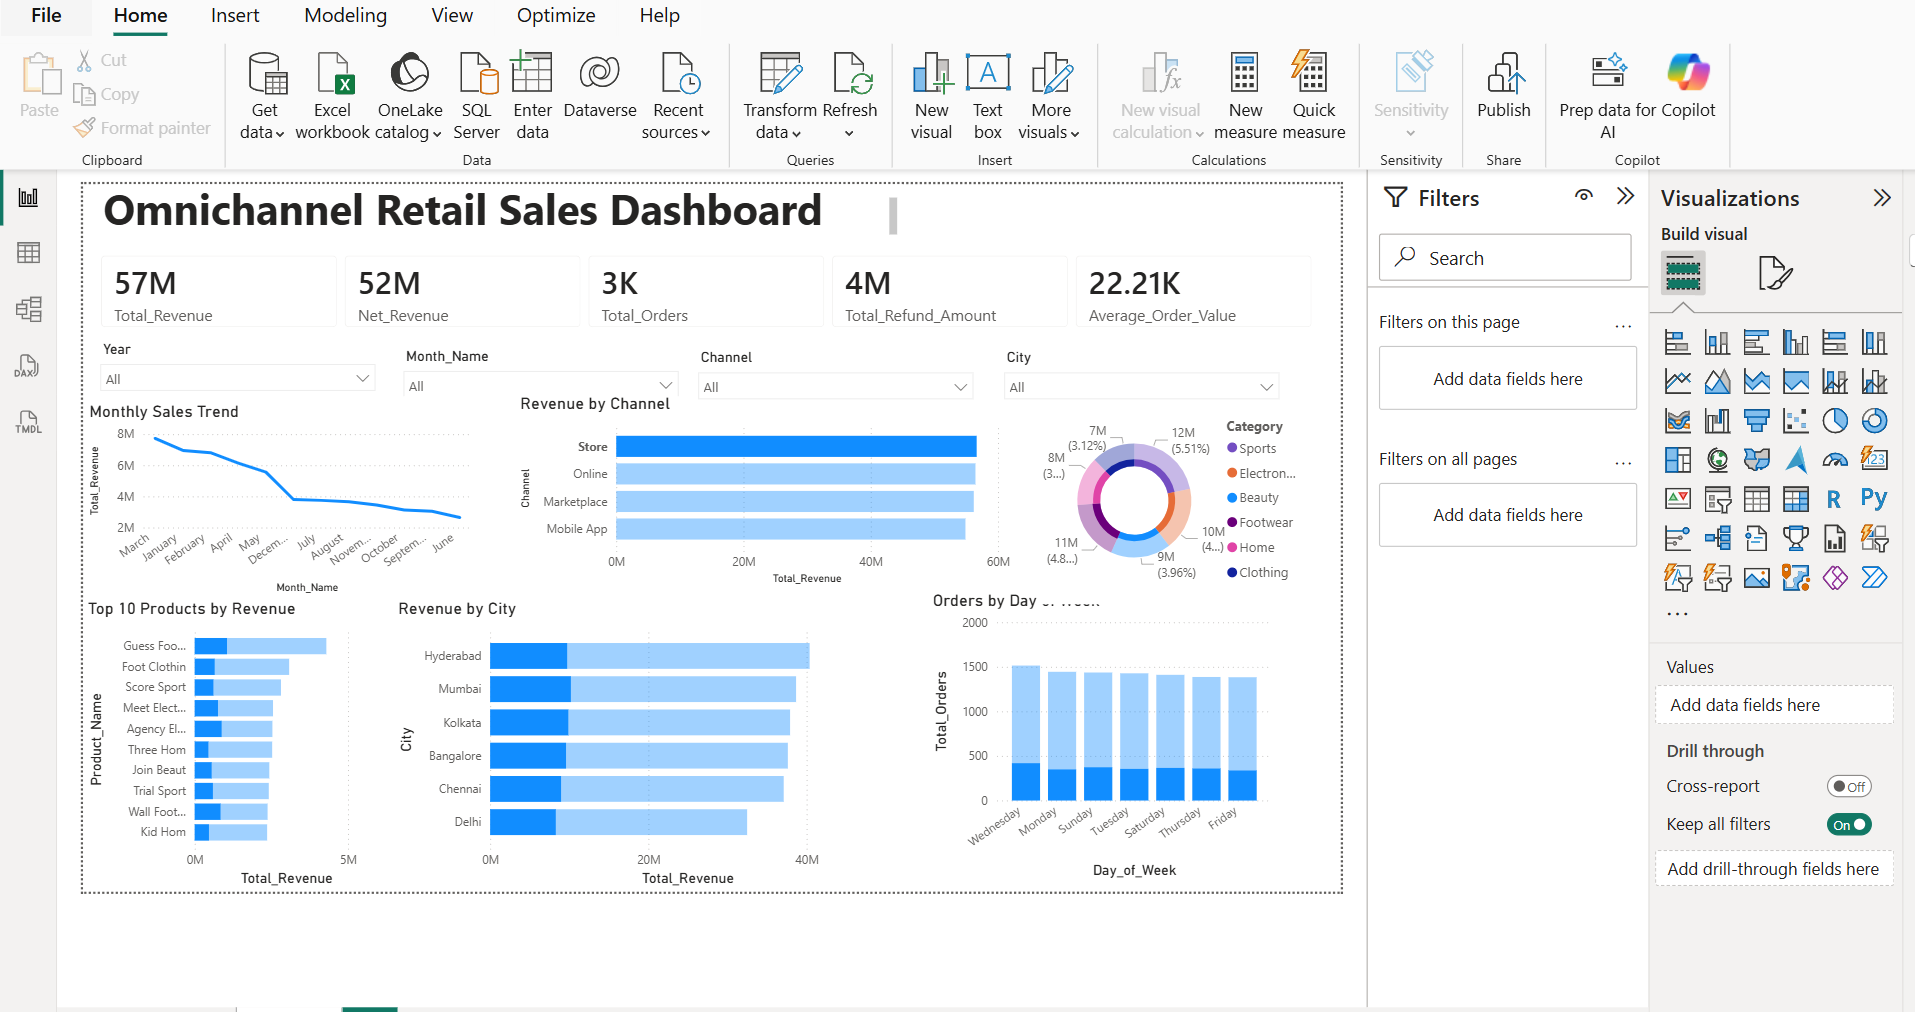

What the dashboard file says about the page in this screenshot:
{"tool":"powerbi","page":{"name":"Page 1","canvas":[1280,720],"ordinal":0},"visuals":[{"type":"cardVisual","fields":{"Data":["week3_dashboard_sales_model.Total_Revenue","week3_dashboard_sales_model.Net_Revenue","week3_dashboard_sales_model.Total_Orders","week3_dashboard_sales_model.Total_Refund_Amount","week3_dashboard_sales_model.Average_Order_Value"]},"box":[0,56,1270,94],"z":0},{"type":"lineChart","title":"Monthly Sales Trend","fields":{"Category":["week3_dashboard_sales_model.Month_Name"],"Y":["week3_dashboard_sales_model.Total_Revenue"]},"box":[1.7,221.7,398.3,200],"z":1000},{"type":"clusteredBarChart","title":"Revenue by Channel","fields":{"Category":["week3_dashboard_sales_model.Channel"],"Y":["week3_dashboard_sales_model.Total_Revenue"]},"box":[440,213.3,508.3,200],"z":2000},{"type":"clusteredBarChart","title":"Top 10 Products by Revenue","fields":{"Category":["week3_dashboard_sales_model.Product_Name"],"Y":["week3_dashboard_sales_model.Total_Revenue"]},"box":[0,421.7,315,298.3],"z":3000},{"type":"clusteredBarChart","title":"Revenue by City","fields":{"Category":["week3_dashboard_sales_model.City"],"Y":["week3_dashboard_sales_model.Total_Revenue"]},"box":[315,421.7,518.3,298.3],"z":4000},{"type":"clusteredColumnChart","title":"Orders by Day of Week","fields":{"Category":["week3_dashboard_sales_model.Day_of_Week"],"Y":["week3_dashboard_sales_model.Total_Orders"]},"box":[860,413.3,355,298.3],"z":5000},{"type":"donutChart","fields":{"Category":["week3_dashboard_sales_model.Category"],"Y":["week3_dashboard_sales_model.Total_Revenue"]},"box":[971.7,216.7,278.3,210],"z":6000},{"type":"slicer","fields":{"Values":["week3_dashboard_sales_model.Year"]},"box":[15,141.7,300,66.7],"z":6001},{"type":"slicer","fields":{"Values":["week3_dashboard_sales_model.Month_Name"]},"box":[315,145,300,55],"z":6002},{"type":"slicer","fields":{"Values":["week3_dashboard_sales_model.Channel"]},"box":[615,150,300,58.3],"z":6003},{"type":"slicer","fields":{"Values":["week3_dashboard_sales_model.City"]},"box":[926.7,146.7,300,66.7],"z":6004},{"type":"textbox","box":[16,0,818,56],"z":6005}]}

Visuals, with their boxes on the page's 1280x720 design canvas (x1, y1, x2, y2). These are canvas units, not pixel positions in the 1915x1012 screenshot, which may show the page scaled, cropped or inside an application window:
cardVisual - week3_dashboard_sales_model.Total_Revenue x week3_dashboard_sales_model.Net_Revenue: {"left": 0, "top": 56, "right": 1270, "bottom": 150}
"Monthly Sales Trend" lineChart: {"left": 2, "top": 222, "right": 400, "bottom": 422}
"Revenue by Channel" clusteredBarChart: {"left": 440, "top": 213, "right": 948, "bottom": 413}
"Top 10 Products by Revenue" clusteredBarChart: {"left": 0, "top": 422, "right": 315, "bottom": 720}
"Revenue by City" clusteredBarChart: {"left": 315, "top": 422, "right": 833, "bottom": 720}
"Orders by Day of Week" clusteredColumnChart: {"left": 860, "top": 413, "right": 1215, "bottom": 712}
donutChart - week3_dashboard_sales_model.Category x week3_dashboard_sales_model.Total_Revenue: {"left": 972, "top": 217, "right": 1250, "bottom": 427}
slicer - week3_dashboard_sales_model.Year: {"left": 15, "top": 142, "right": 315, "bottom": 208}
slicer - week3_dashboard_sales_model.Month_Name: {"left": 315, "top": 145, "right": 615, "bottom": 200}
slicer - week3_dashboard_sales_model.Channel: {"left": 615, "top": 150, "right": 915, "bottom": 208}
slicer - week3_dashboard_sales_model.City: {"left": 927, "top": 147, "right": 1227, "bottom": 213}
textbox: {"left": 16, "top": 0, "right": 834, "bottom": 56}
